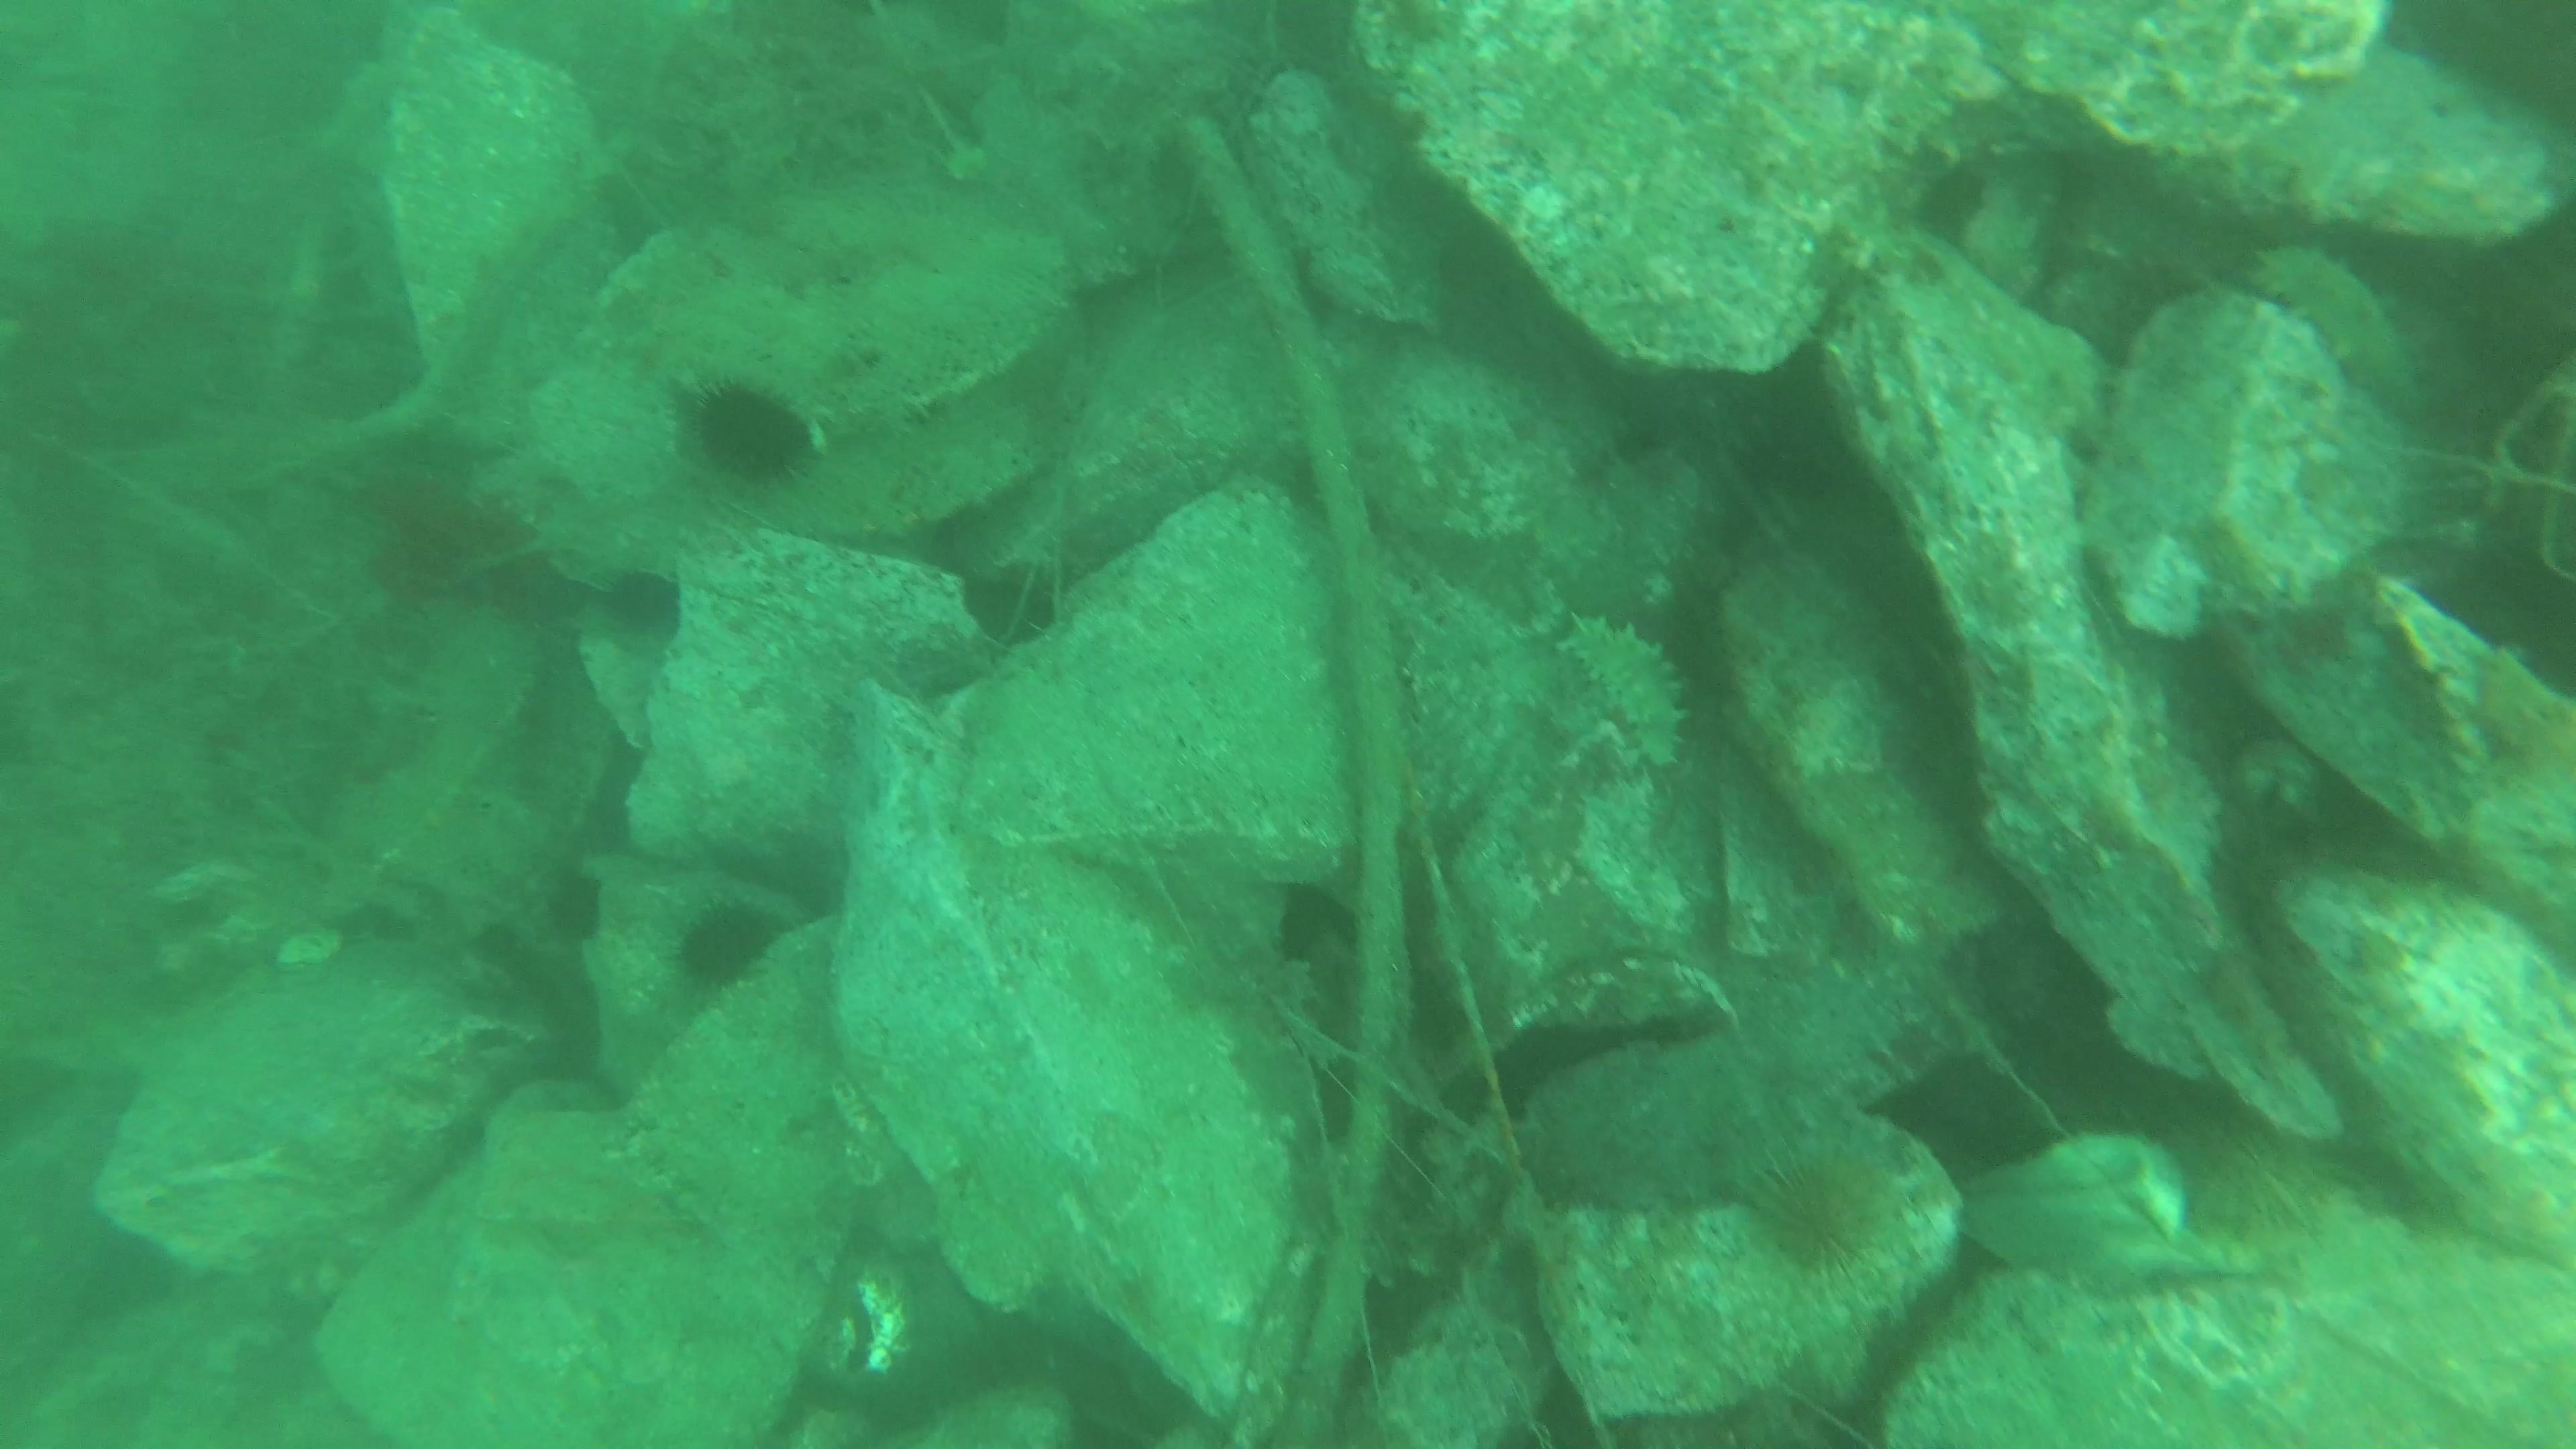echinus: (1741, 1139, 1898, 1283), (678, 372, 821, 488), (667, 893, 786, 996), (594, 559, 690, 651), (534, 860, 614, 950)
holothurian: (2242, 237, 2431, 428), (1548, 605, 1698, 793)
